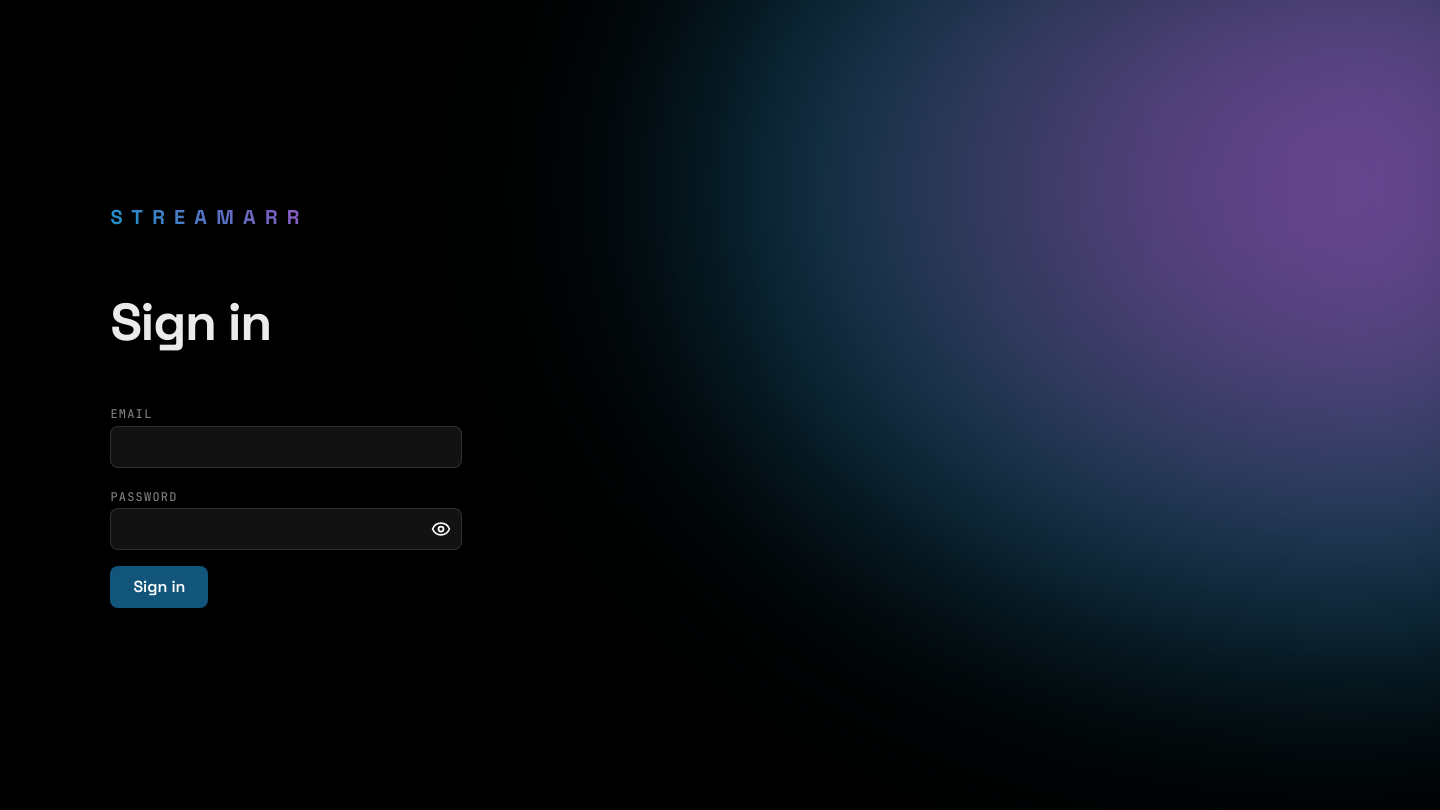
Test case: TopBar › shouldShowNoIdentityWhileTheAccountIsLoading
Type "owner@example.com" into the field labelled "Email" at (286, 447), box [110,426,462,468]
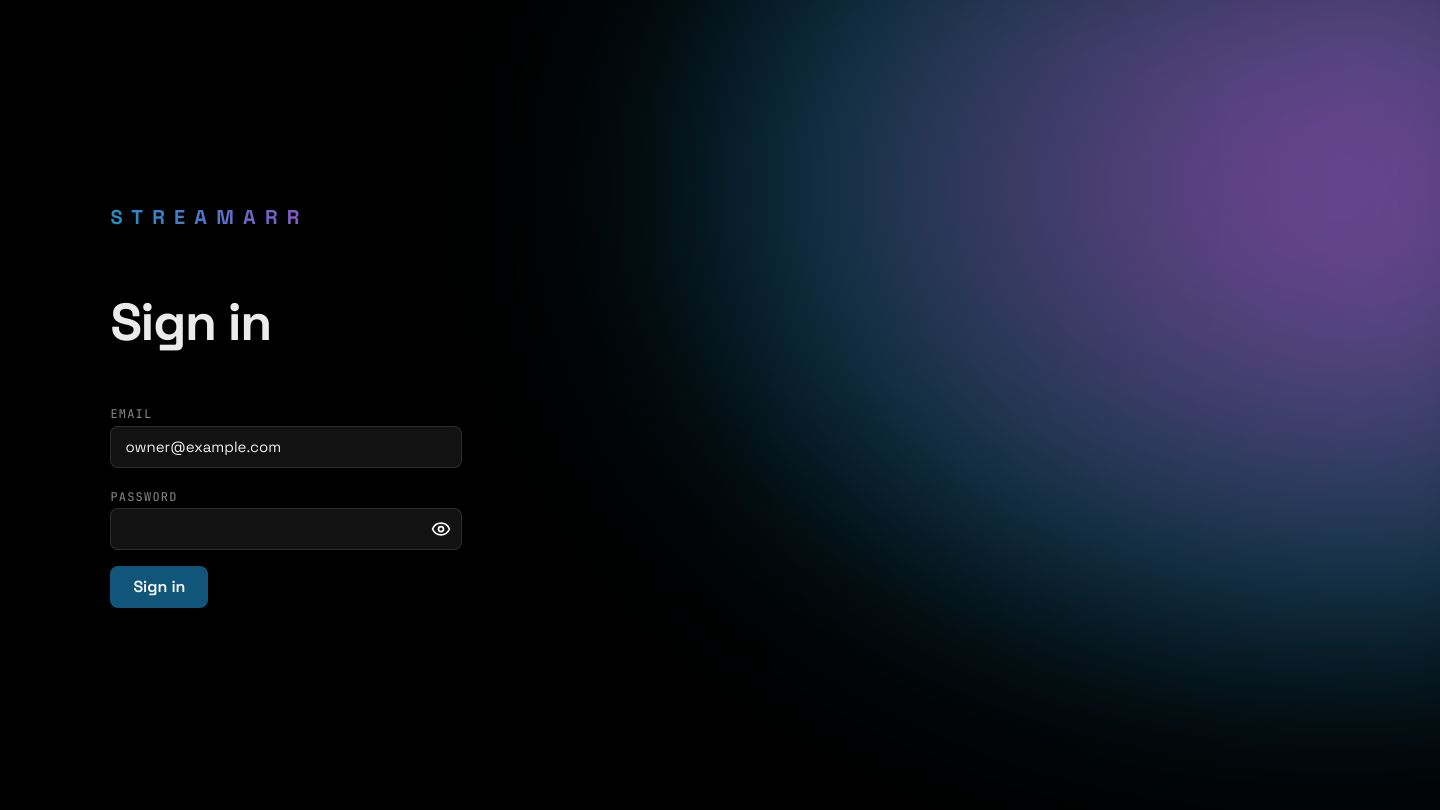
Type "hunter2!" into the password field labelled "Password" at (286, 529), box [111,509,461,549]
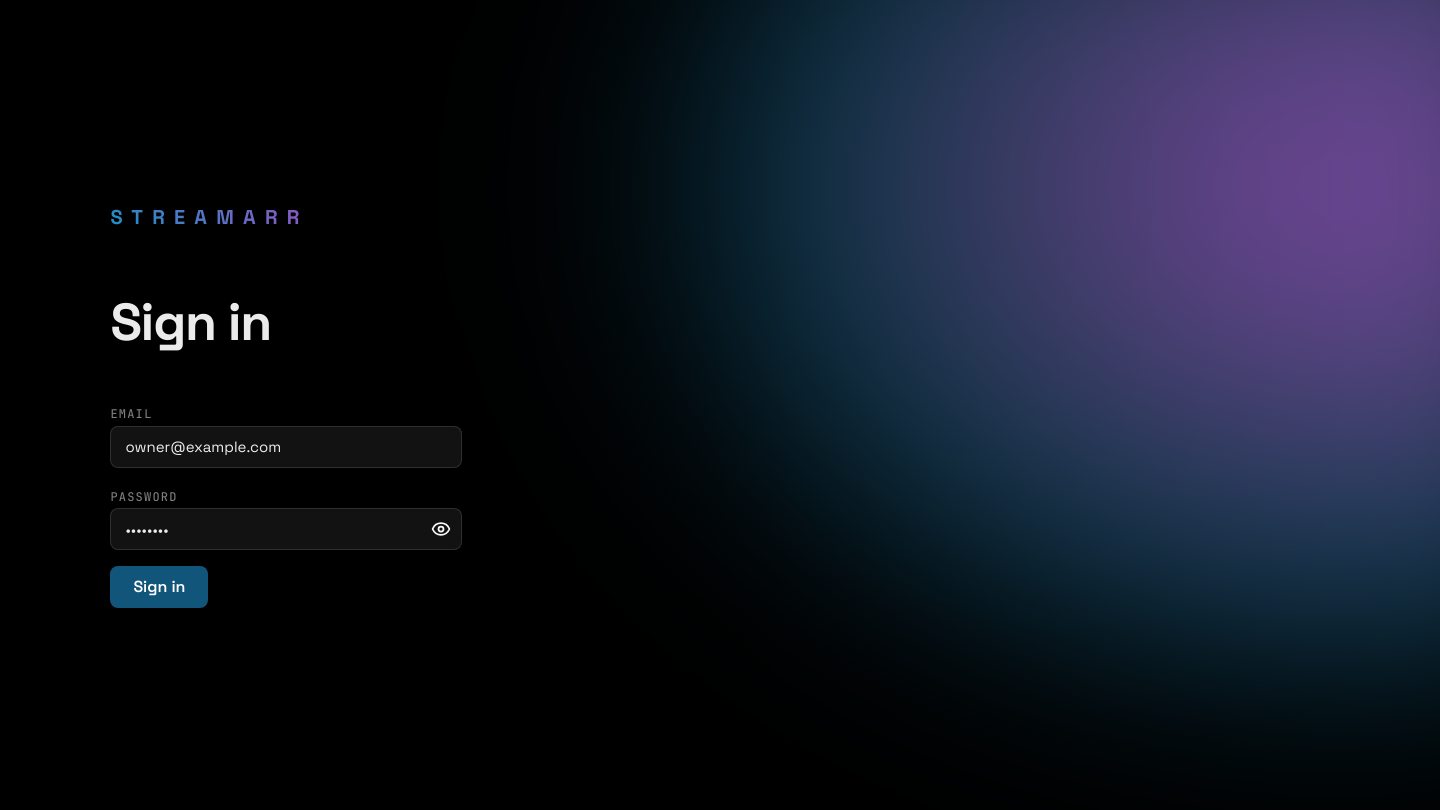
Click the button "Sign in" at (159, 587), box [110,566,208,608]
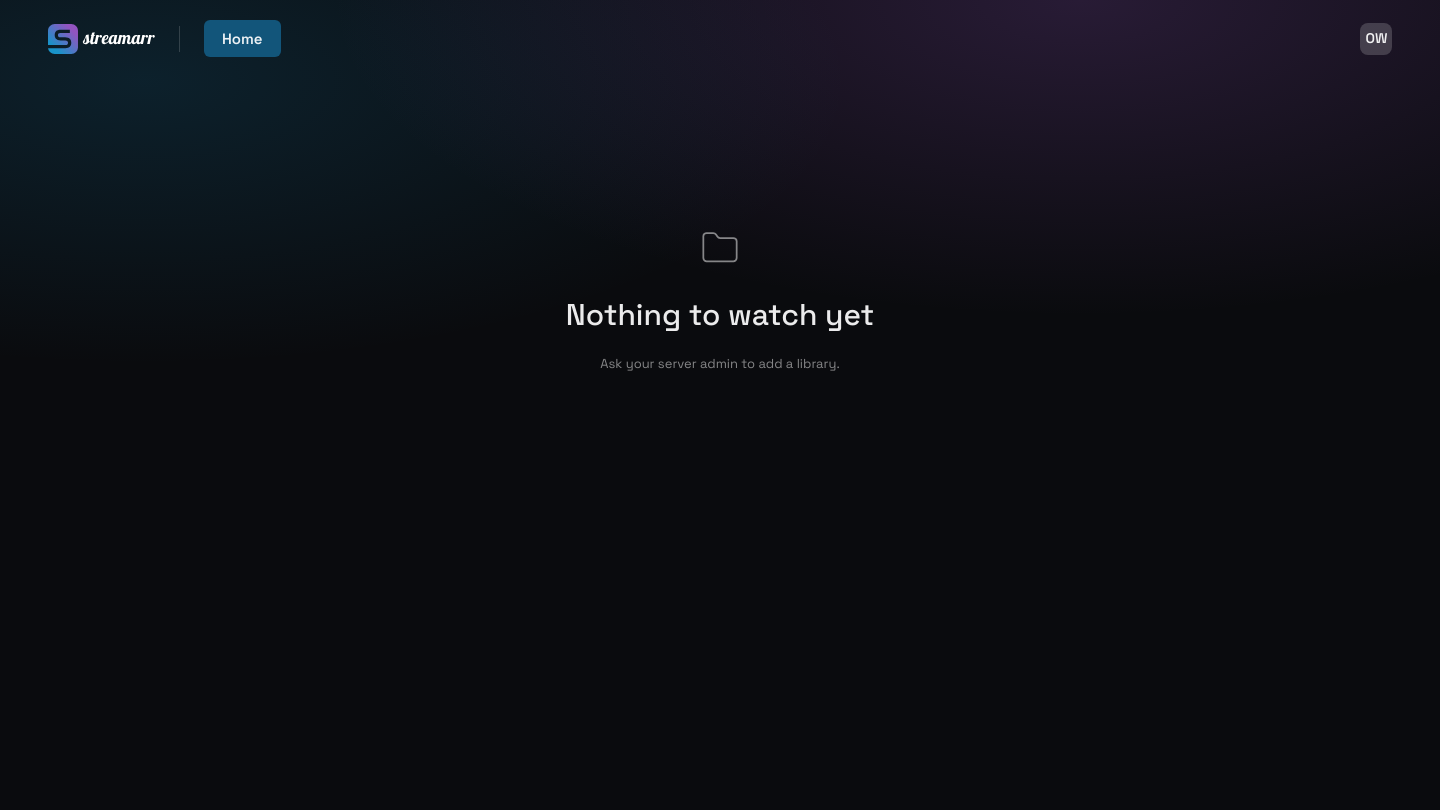
expect the link "Home" is shown: met, box [204,20,280,57]
expect the button with aria-label "profile menu" is shown: met, box [1360,23,1392,55]
